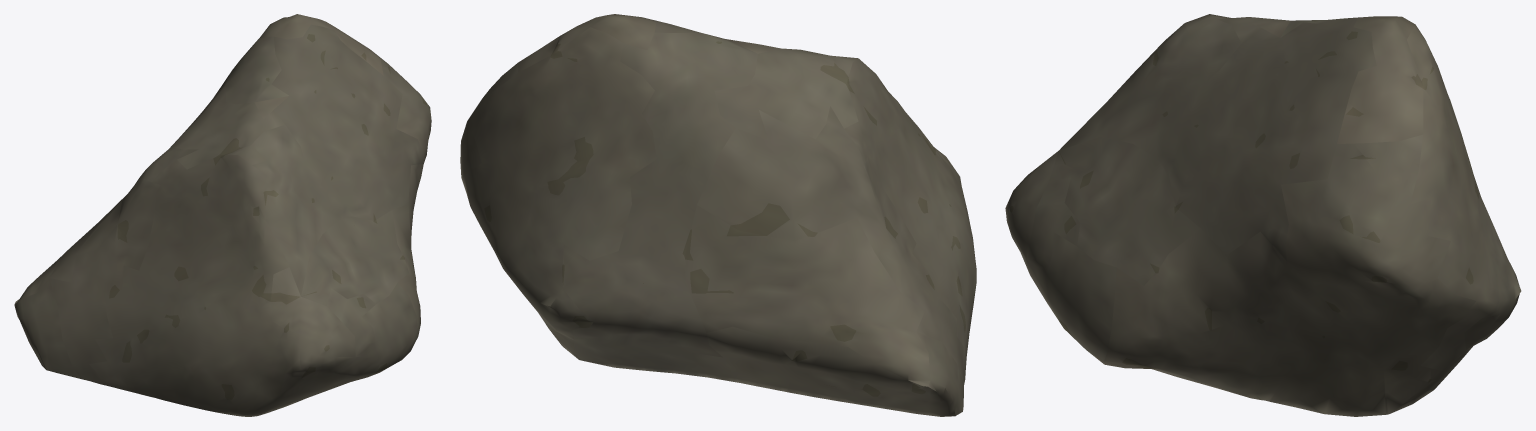
File: corealm_ore_stone.glb
3 renders of one model, left to right at view 1: azimuth 30°, elevation 25°; view 2: azimuth 150°, elevation 25°; view 3: azimuth 270°, elevation 25°, orthographic. The views are drawn at different scales.
Parts seen in each view (by area): view 1: corealm_ore_stone; view 2: corealm_ore_stone; view 3: corealm_ore_stone.
Boxes of the visible parts, x1,y1,x2,y2 form: corealm_ore_stone: (14, 14, 431, 416); corealm_ore_stone: (460, 14, 976, 416); corealm_ore_stone: (1005, 14, 1521, 416).
Bounding box in the file's own units: 2.6 × 1.7 × 2.2.
Materials: 2 (2 with a texture image).
